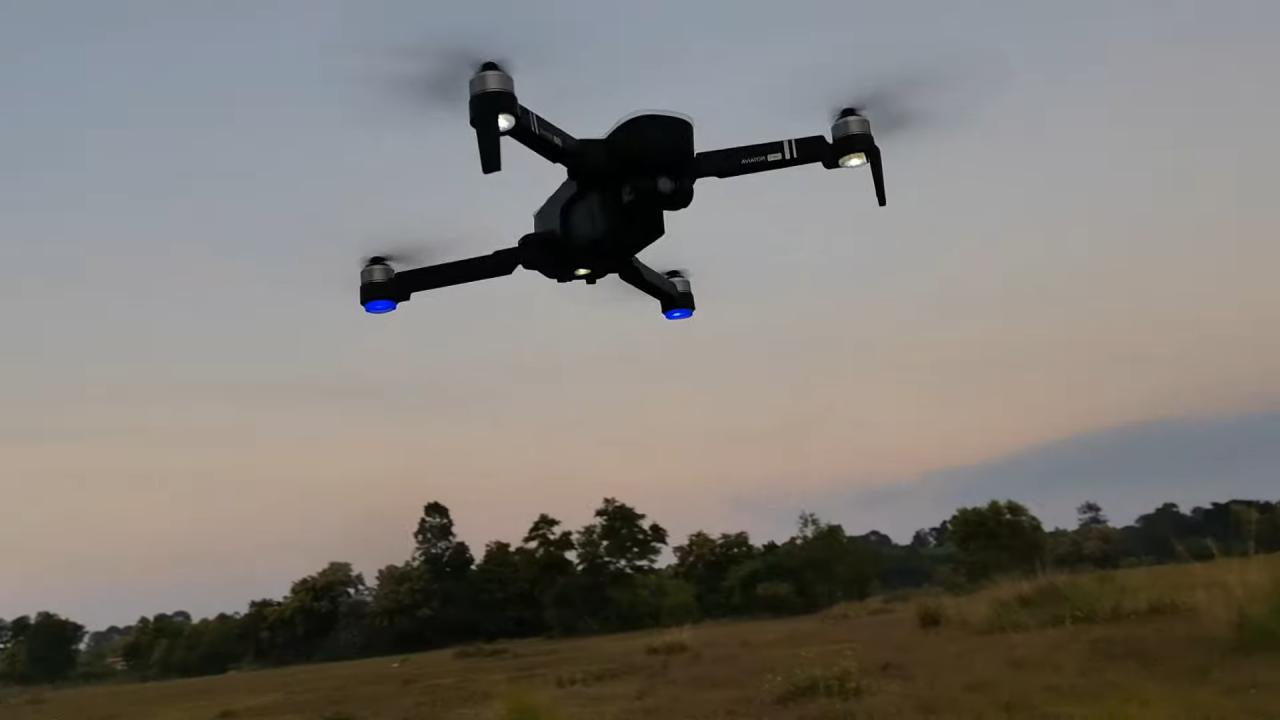Drone: (338, 32, 900, 331)
